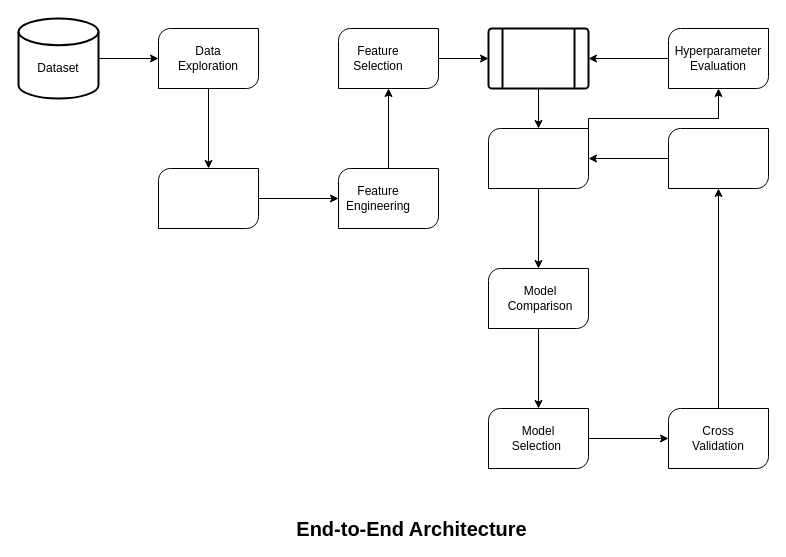
This 786x557 diagram has some shape labels left out. The centre of each missing label's shape, as x and y in pixels:
"Data Preprocesing" belongs at [208,198].
"Feature Importance" belongs at [718,158].
"ML Models" belongs at [538,58].
"Model Evaluation" belongs at [538,158].
